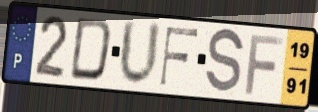2: (34, 13, 70, 81)
D: (68, 16, 115, 84)
F: (157, 25, 201, 89), (243, 31, 286, 96)
S: (203, 27, 246, 97)
U: (117, 17, 163, 89)
